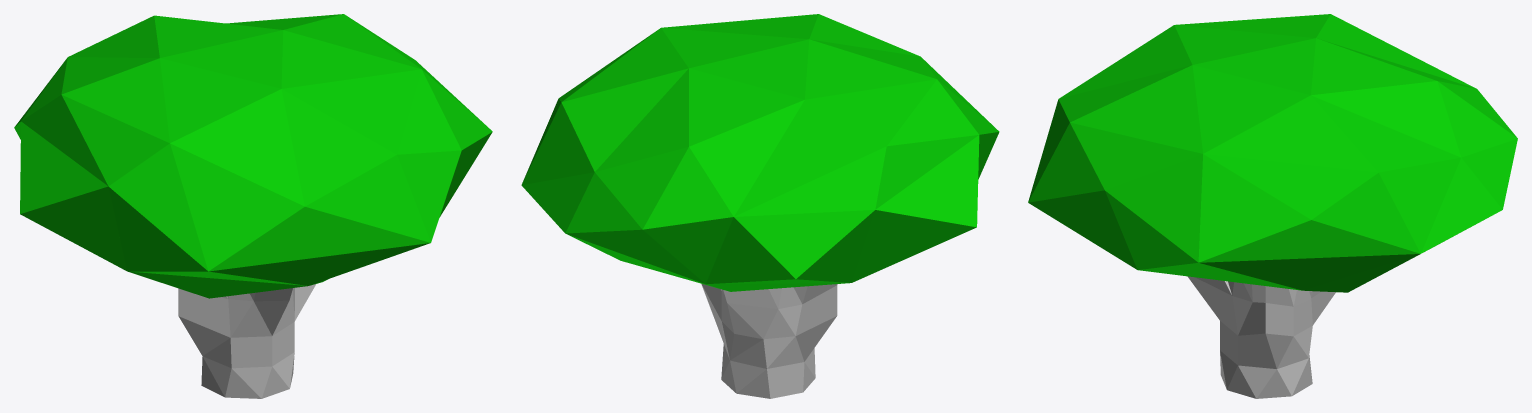
3 renders of one model, left to right at view 1: azimuth 30°, elevation 25°; view 2: azimuth 150°, elevation 25°; view 3: azimuth 270°, elevation 25°, orthographic. The views are drawn at different scales.
Visible parts, largest first — view 1: tree_Cylinder; view 2: tree_Cylinder; view 3: tree_Cylinder.
Part boxes in pixels (x1=…): tree_Cylinder: x1=14, y1=14, x2=492, y2=398; tree_Cylinder: x1=521, y1=14, x2=999, y2=398; tree_Cylinder: x1=1028, y1=14, x2=1517, y2=398.
Size of the model in its own units: 2.14 by 1.51 by 2.15.
